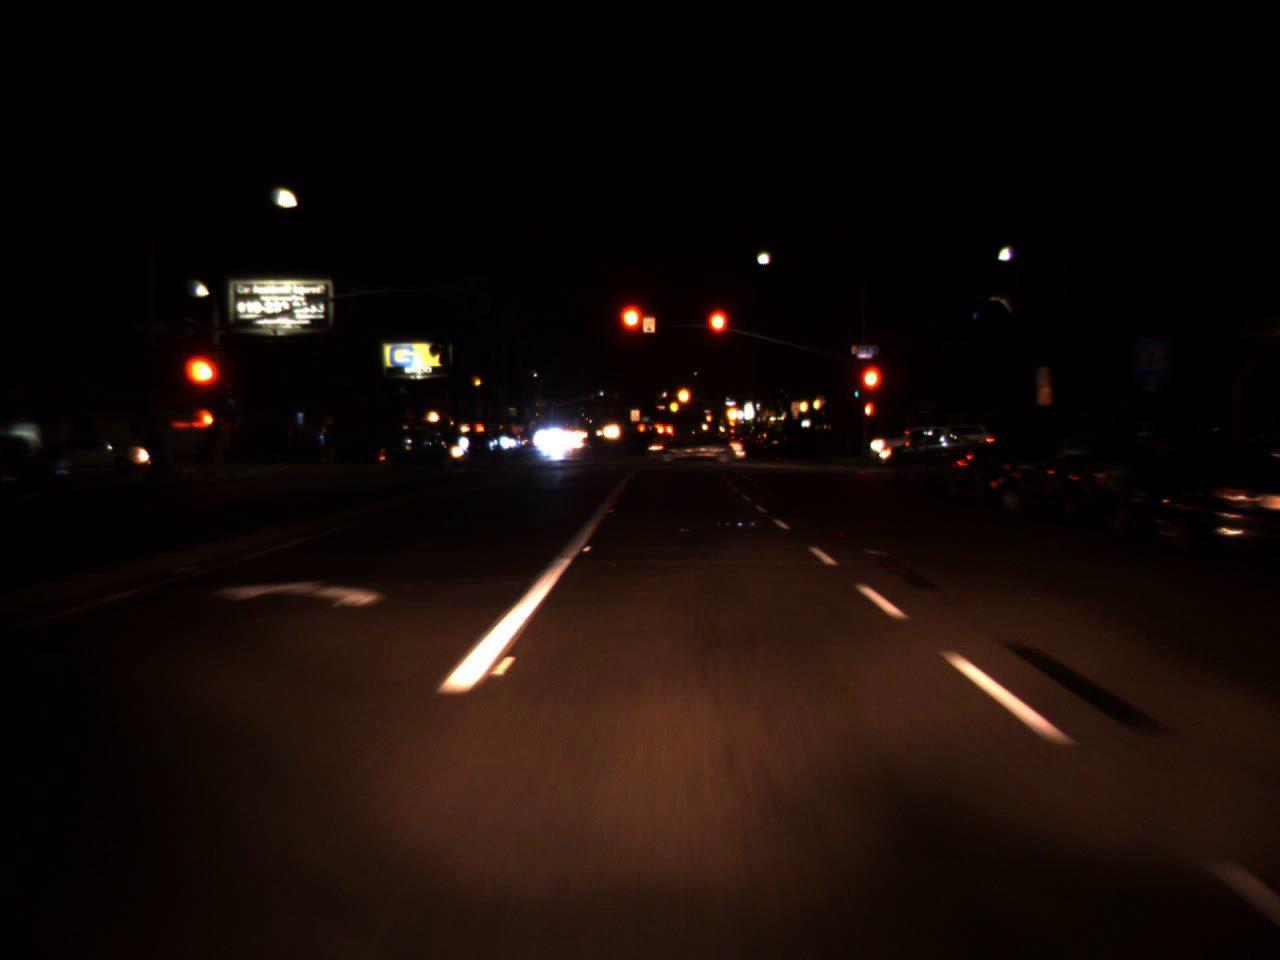stop: (617, 301, 647, 362), (857, 361, 885, 423), (184, 357, 220, 405), (703, 305, 731, 361)
warning: (723, 396, 741, 428), (675, 378, 691, 410), (669, 394, 681, 419), (706, 412, 712, 424)
